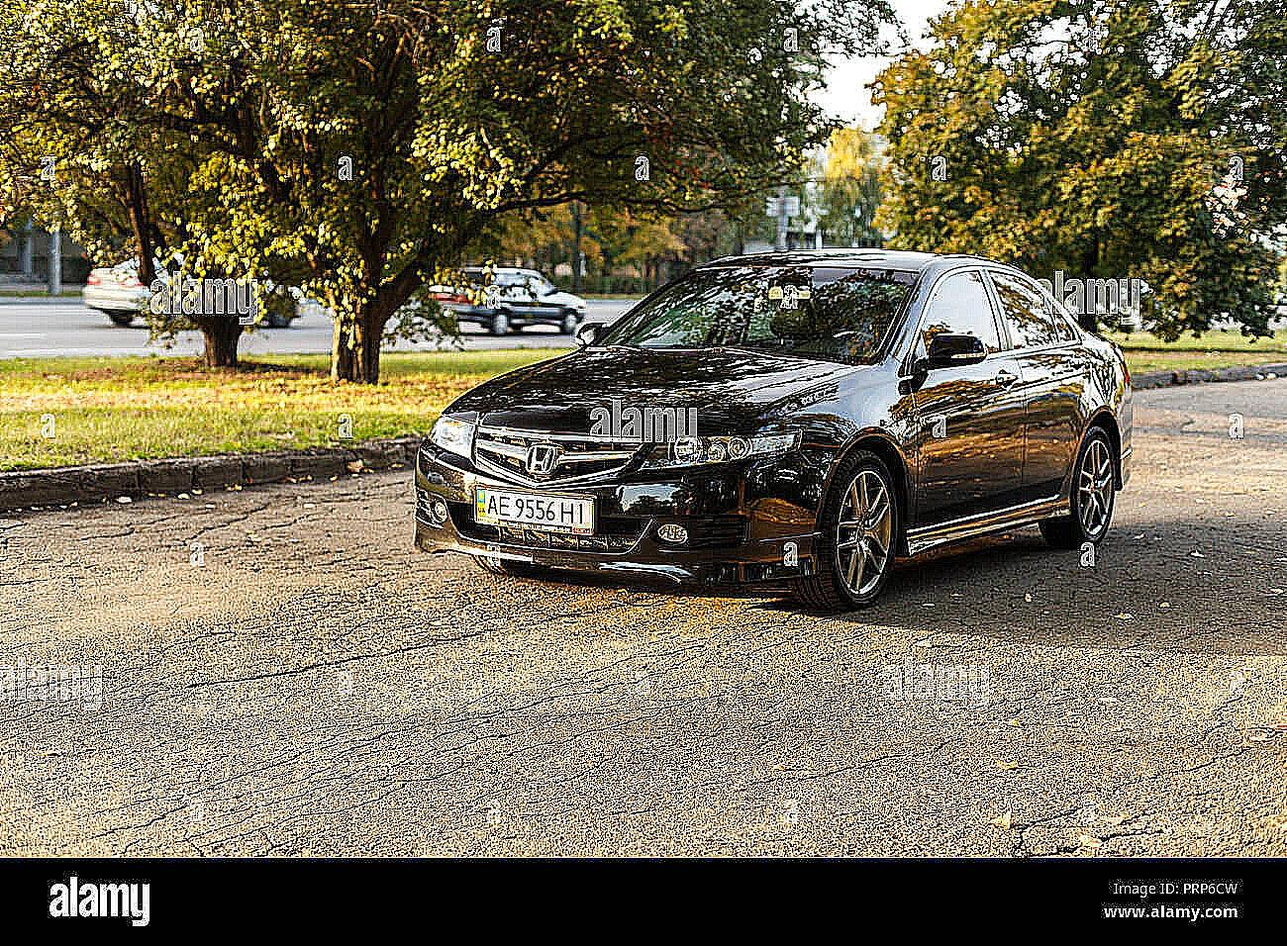Car hood: (436, 342, 875, 443)
Fender - -F-L-: (796, 349, 918, 554)
Fender - -R-L-: (1066, 347, 1126, 521)
Front bumper: (401, 444, 836, 599)
Headlight - -L-: (630, 421, 800, 479)
Headlight - -R-: (415, 403, 487, 469)
Passenger-s door - -F-L-: (915, 260, 1027, 536)
Passenger-s door - -R-L-: (1014, 264, 1095, 509)
Rear bumper: (1114, 415, 1150, 493)
Rear light - -L-: (892, 477, 1086, 558), (1110, 343, 1143, 389)
Side mirror - -L-: (913, 329, 995, 383)
Side mirror - -R-: (570, 316, 619, 360)
